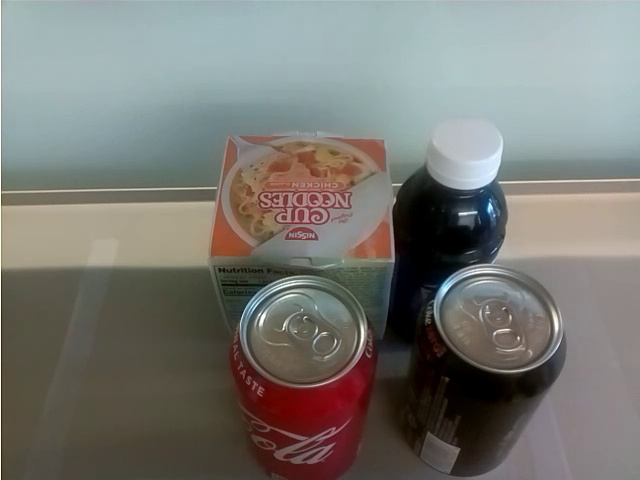cocacola: (224, 274, 375, 480)
cocacola-zero: (399, 272, 570, 473)
juice: (395, 101, 517, 266)
noodles: (203, 135, 396, 277)
